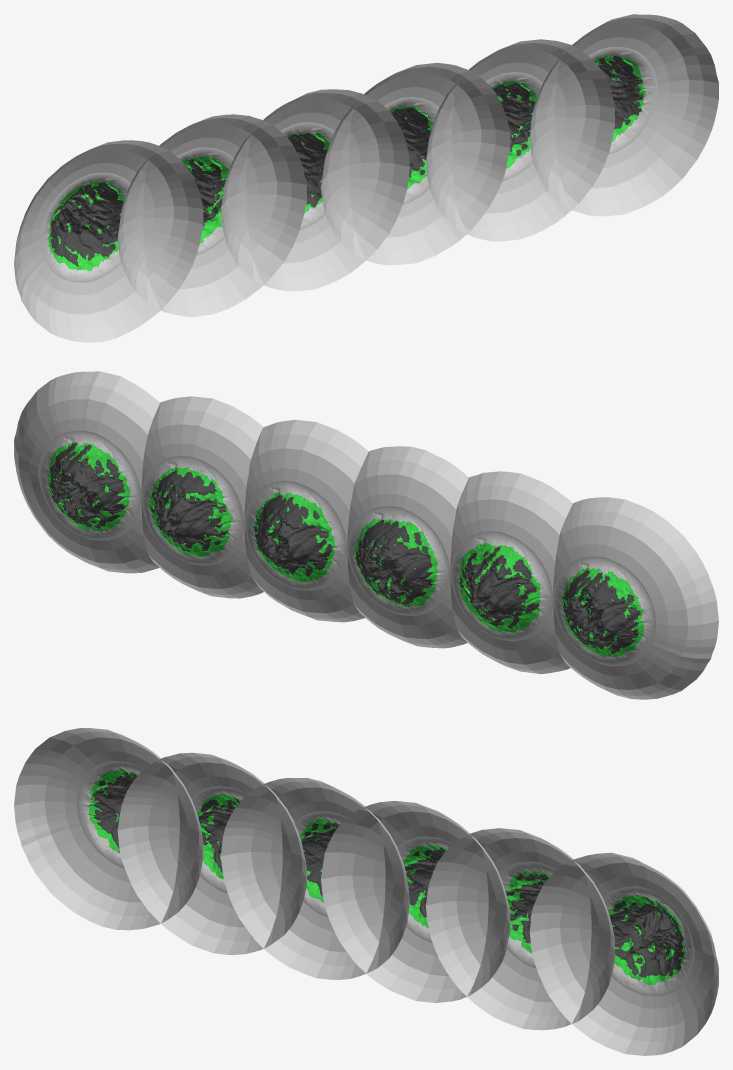
File: Islands 3.fbx
3 renders of one model, top to bottom at view 1: azimuth 30°, elevation 25°; view 2: azimuth 150°, elevation 25°; view 3: azimuth 330°, elevation 25°, orthographic.
Visible parts, largest first — view 1: Volcano 2, Volcano 6, Volcano 1, Volcano 3, Volcano 5, Volcano 4; view 2: Volcano 2, Volcano 6, Volcano 1, Volcano 3, Volcano 5, Volcano 4; view 3: Volcano 6, Volcano 2, Volcano 1, Volcano 3, Volcano 5, Volcano 4.
Boxes of the visible parts, x1,y1,x2,y2 form: Volcano 2: (14, 140, 203, 342); Volcano 6: (529, 14, 718, 216); Volcano 1: (426, 39, 614, 241); Volcano 3: (117, 114, 306, 317); Volcano 5: (321, 62, 510, 265); Volcano 4: (220, 89, 409, 291); Volcano 2: (553, 497, 718, 699); Volcano 6: (14, 371, 159, 573); Volcano 1: (141, 396, 263, 598); Volcano 3: (450, 471, 572, 674); Volcano 5: (244, 419, 368, 622); Volcano 4: (347, 446, 468, 648); Volcano 6: (529, 852, 718, 1055); Volcano 2: (14, 728, 203, 930); Volcano 1: (425, 828, 614, 1030); Volcano 3: (117, 752, 306, 954); Volcano 5: (321, 800, 510, 1002); Volcano 4: (220, 778, 409, 979).
Size of the model in its own units: 1369 by 372 by 139.
